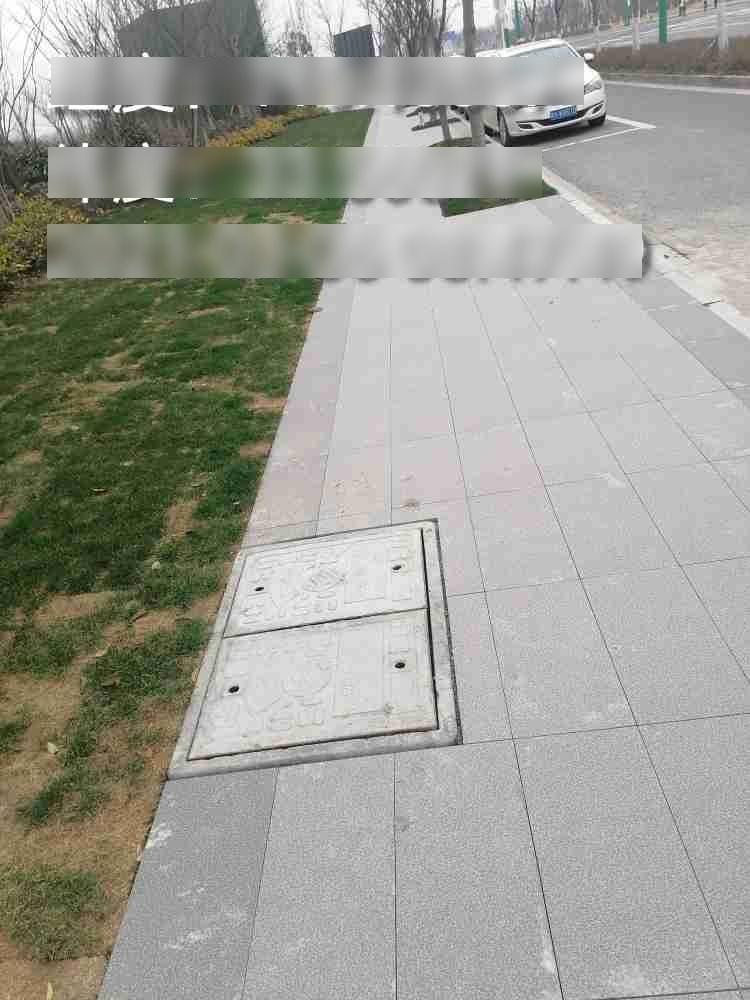wellcover: (171, 527, 480, 782)
